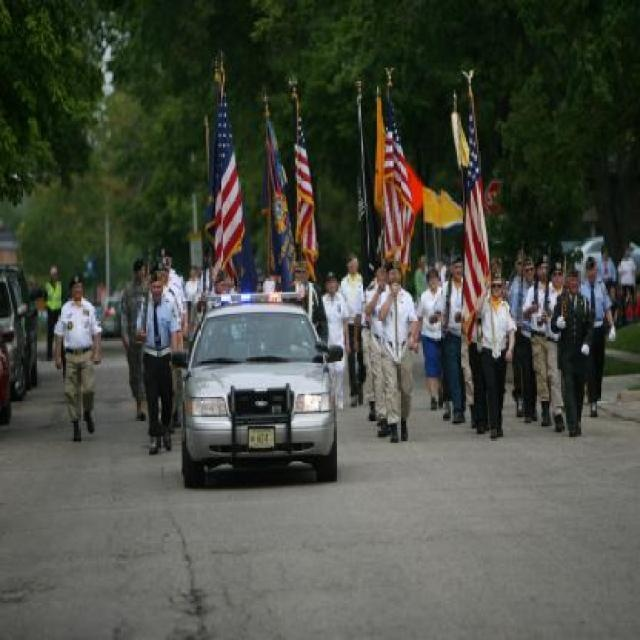obstacle: (43, 240, 640, 455)
